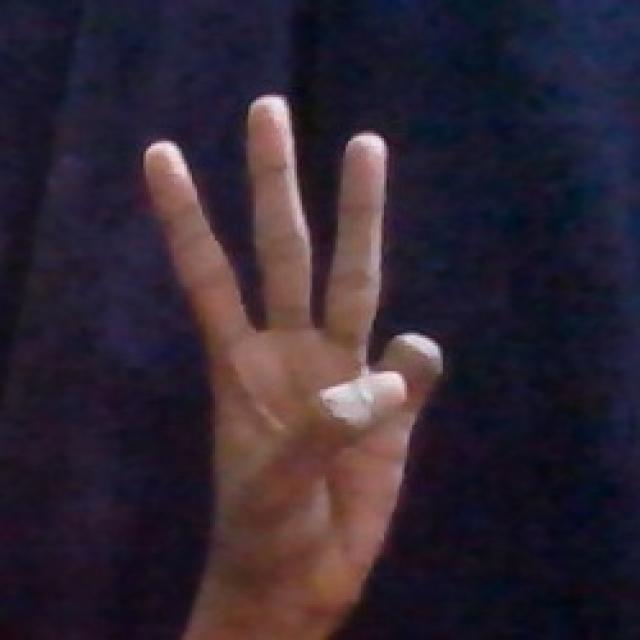Numeric-6: (135, 84, 449, 603)
